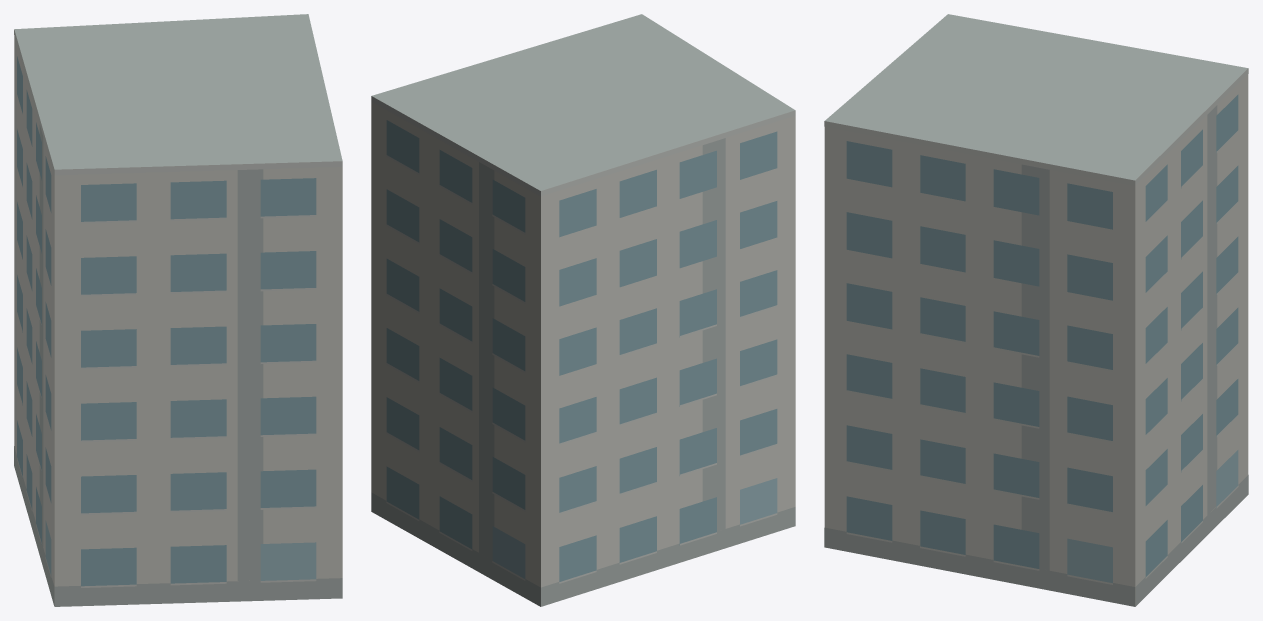
Rendered from survey-upis-32561681.glb.
The picture shows the model from 3 angles, left to right: view 1: azimuth 30°, elevation 25°; view 2: azimuth 150°, elevation 25°; view 3: azimuth 270°, elevation 25°; orthographic projection. The views are drawn at different scales.
Parts seen in each view (by area): view 1: survey-upis-32561681.tmp; view 2: survey-upis-32561681.tmp; view 3: survey-upis-32561681.tmp.
Boxes of the visible parts, box(x1,y1,x2,y2) form: survey-upis-32561681.tmp: box(14, 14, 342, 606); survey-upis-32561681.tmp: box(371, 14, 795, 606); survey-upis-32561681.tmp: box(824, 14, 1248, 606).
Bounding box in the file's own units: 15.34 × 18.3 × 16.5.
